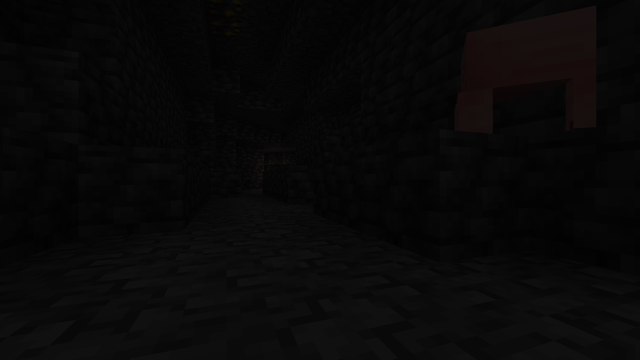cochons: (447, 1, 596, 141)
